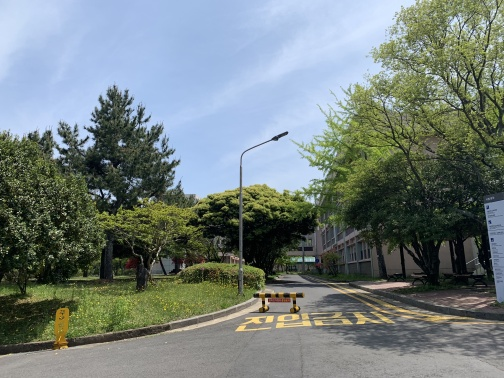College Of Education: (306, 114, 487, 294)
